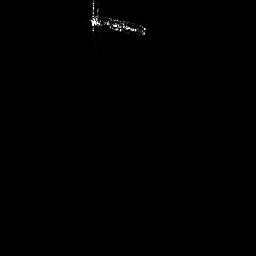ship: (91, 2, 148, 36)
